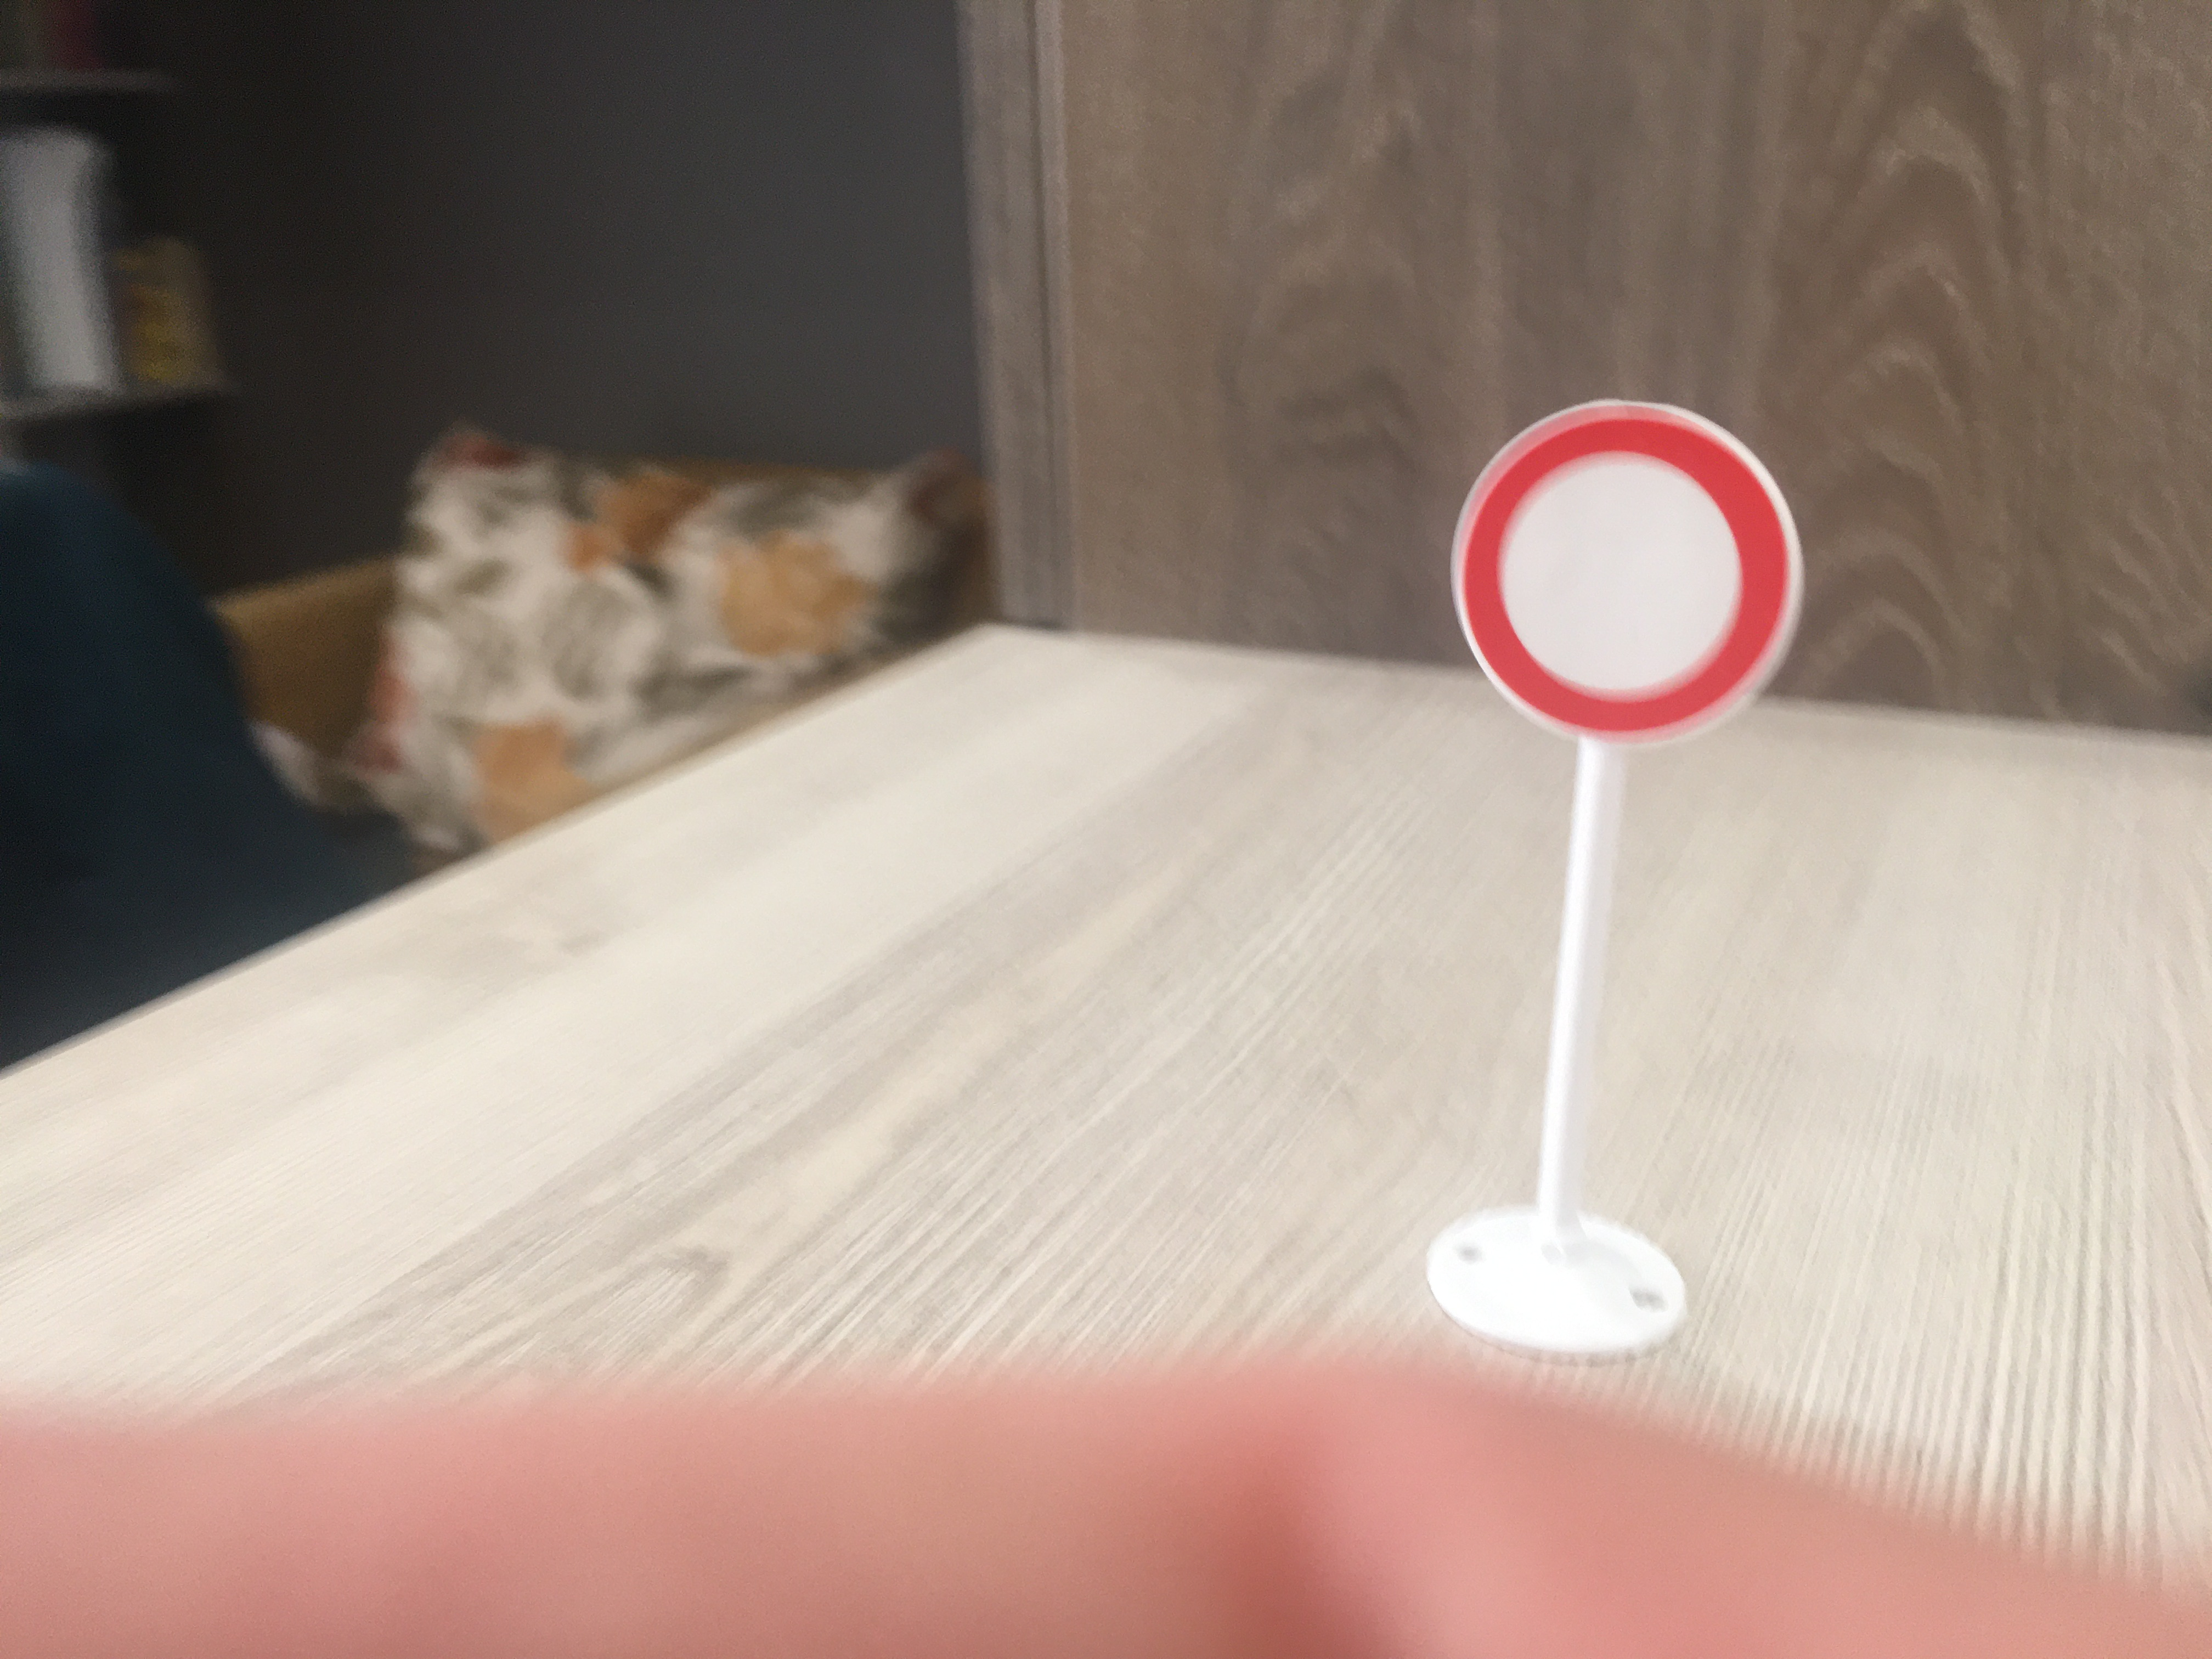noDrive: (1453, 406, 1796, 737)
